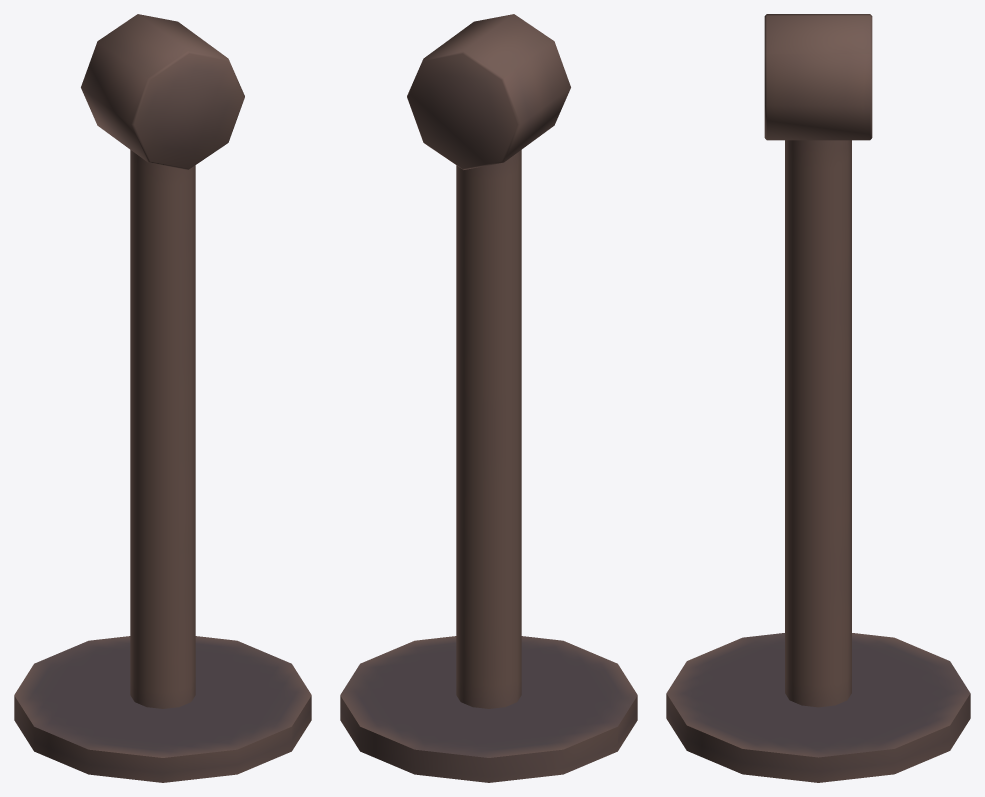
3 renders of one model, left to right at view 1: azimuth 30°, elevation 25°; view 2: azimuth 150°, elevation 25°; view 3: azimuth 270°, elevation 25°, orthographic. The views are drawn at different scales.
Visible parts, largest first — view 1: Cylinder.002_Baked; view 2: Cylinder.002_Baked; view 3: Cylinder.002_Baked.
Boxes of the visible parts, x1,y1,x2,y2 form: Cylinder.002_Baked: (14, 14, 311, 782); Cylinder.002_Baked: (340, 14, 637, 782); Cylinder.002_Baked: (666, 14, 970, 782).
Size of the model in its own units: 23.53 by 59.98 by 23.53.
1 material, 1 textured.
